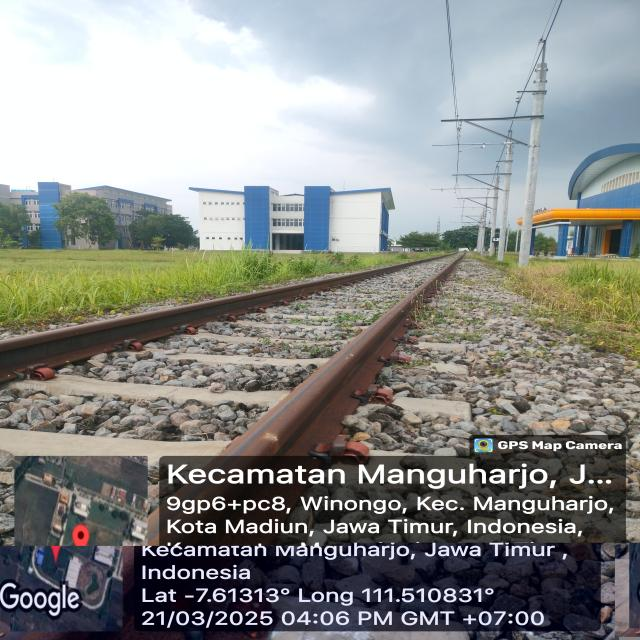rail-detection: (0, 261, 425, 382), (221, 254, 464, 456)
